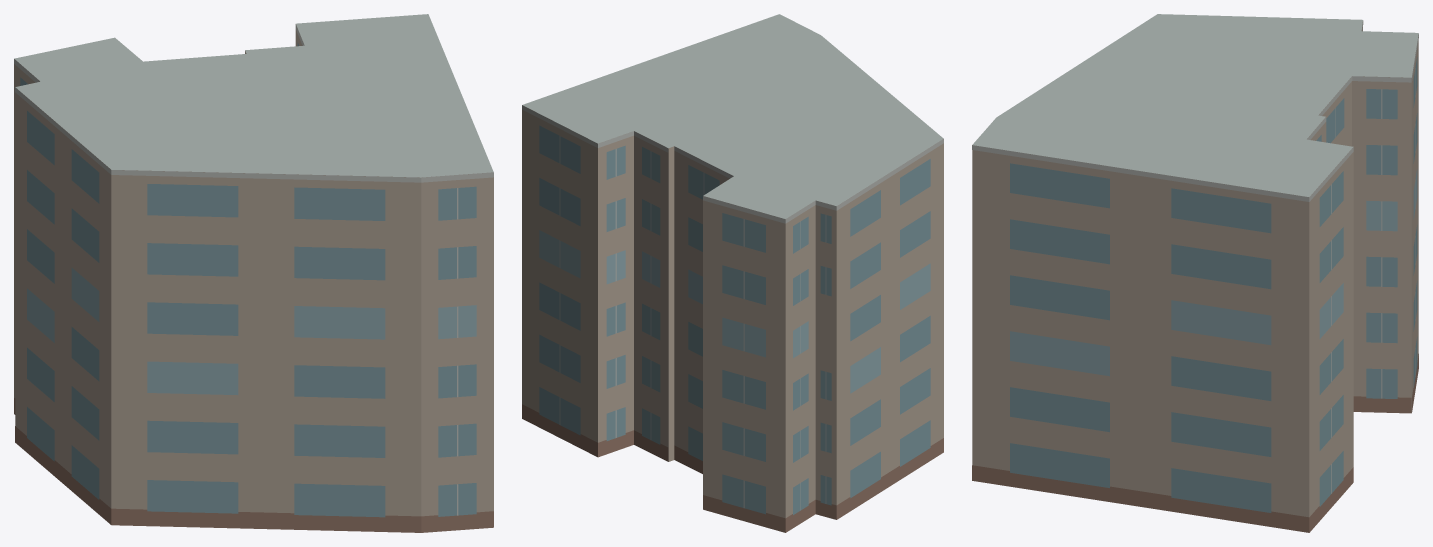
Rendered from survey-upis-32998344.glb.
3 renders of one model, left to right at view 1: azimuth 30°, elevation 25°; view 2: azimuth 150°, elevation 25°; view 3: azimuth 270°, elevation 25°, orthographic. The views are drawn at different scales.
Parts seen in each view (by area): view 1: survey-upis-32998344.tmp; view 2: survey-upis-32998344.tmp; view 3: survey-upis-32998344.tmp.
Part boxes in pixels (x1,y1,x2,y2): survey-upis-32998344.tmp: (14,14,493,532); survey-upis-32998344.tmp: (522,14,943,532); survey-upis-32998344.tmp: (972,14,1418,532).
Bounding box in the file's own units: 19.67 × 16.8 × 20.27.
